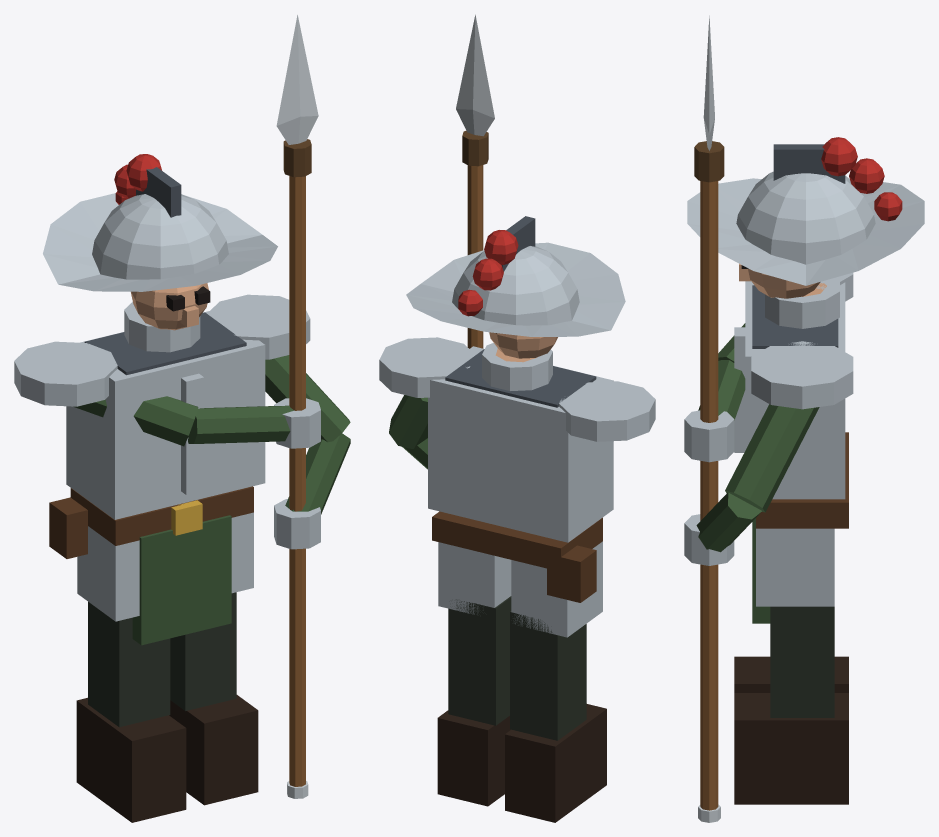
Rendered from soldier.glb.
The picture shows the model from 3 angles, left to right: view 1: azimuth 30°, elevation 25°; view 2: azimuth 150°, elevation 25°; view 3: azimuth 270°, elevation 25°; orthographic projection. The views are drawn at different scales.
Visible parts, largest first — view 1: Body, Pike; view 2: Body, Pike; view 3: Body, Pike.
Boxes of the visible parts, <box> form: Body: <box>14,154,350,822</box>; Pike: <box>276,15,318,798</box>; Body: <box>379,216,655,822</box>; Pike: <box>456,14,494,348</box>; Body: <box>684,137,924,804</box>; Pike: <box>694,15,724,822</box>.
Size of the model in its own units: 1.01 by 2.48 by 0.6715.
